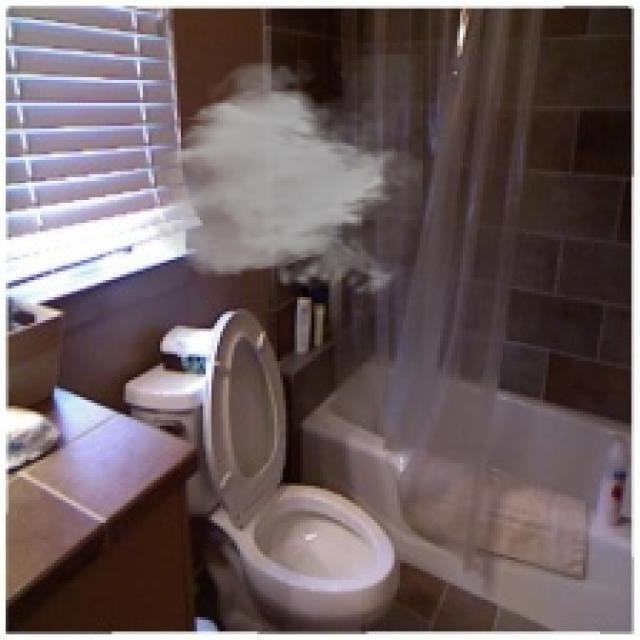smoke: (148, 54, 423, 303)
